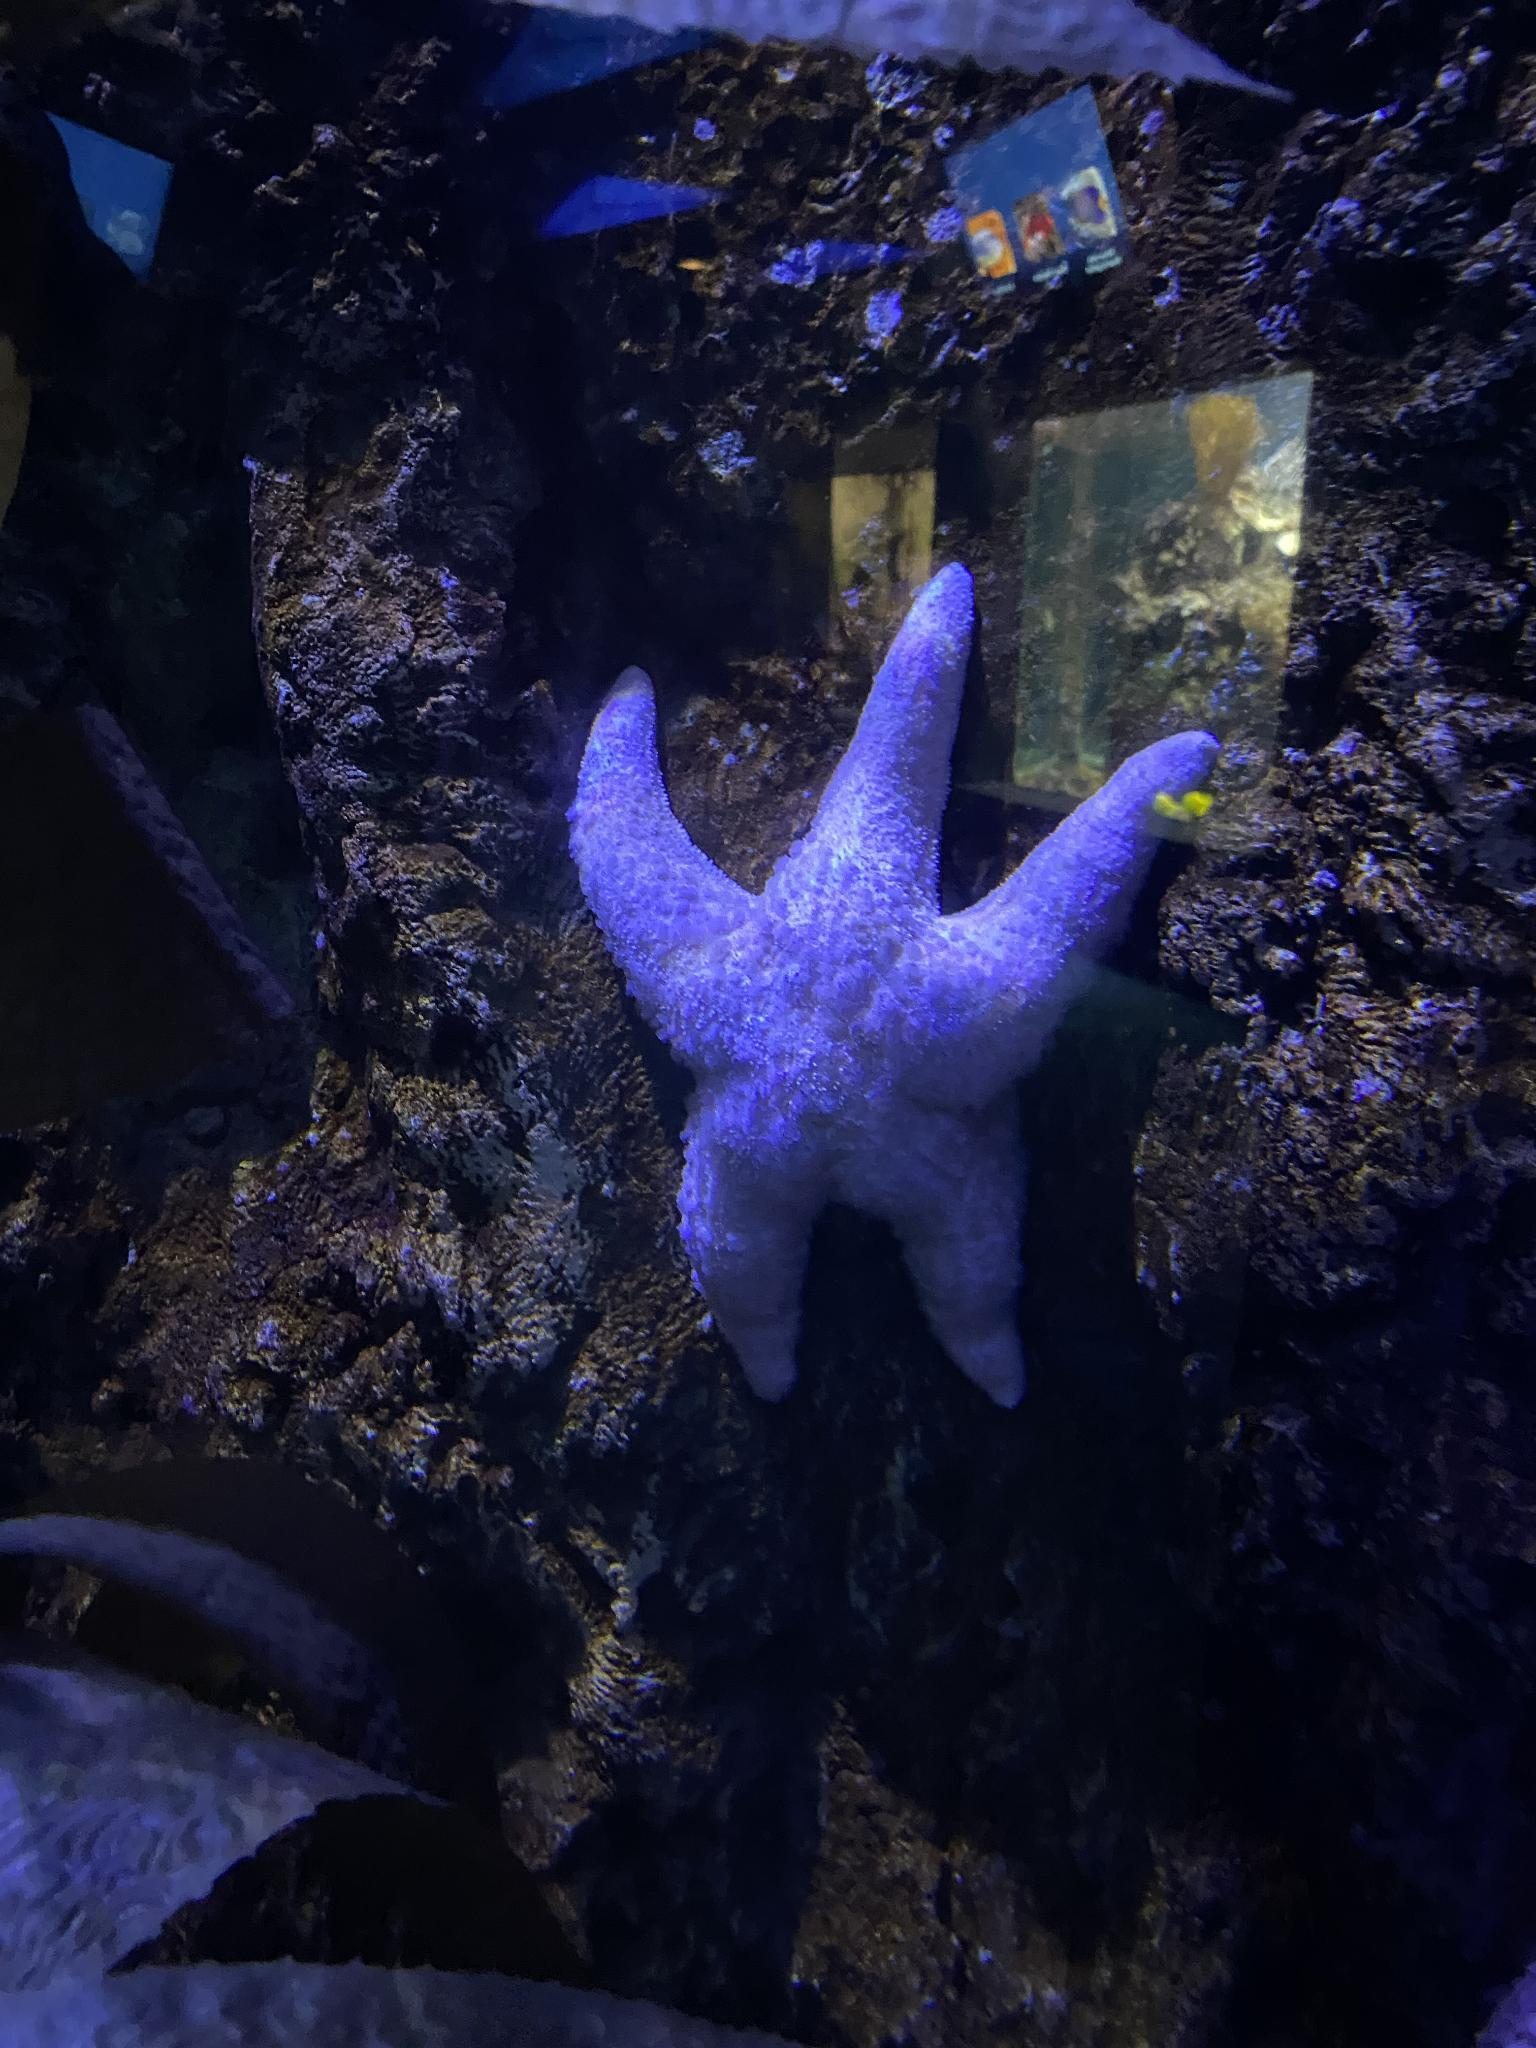starfish: (550, 589, 1218, 1409)
